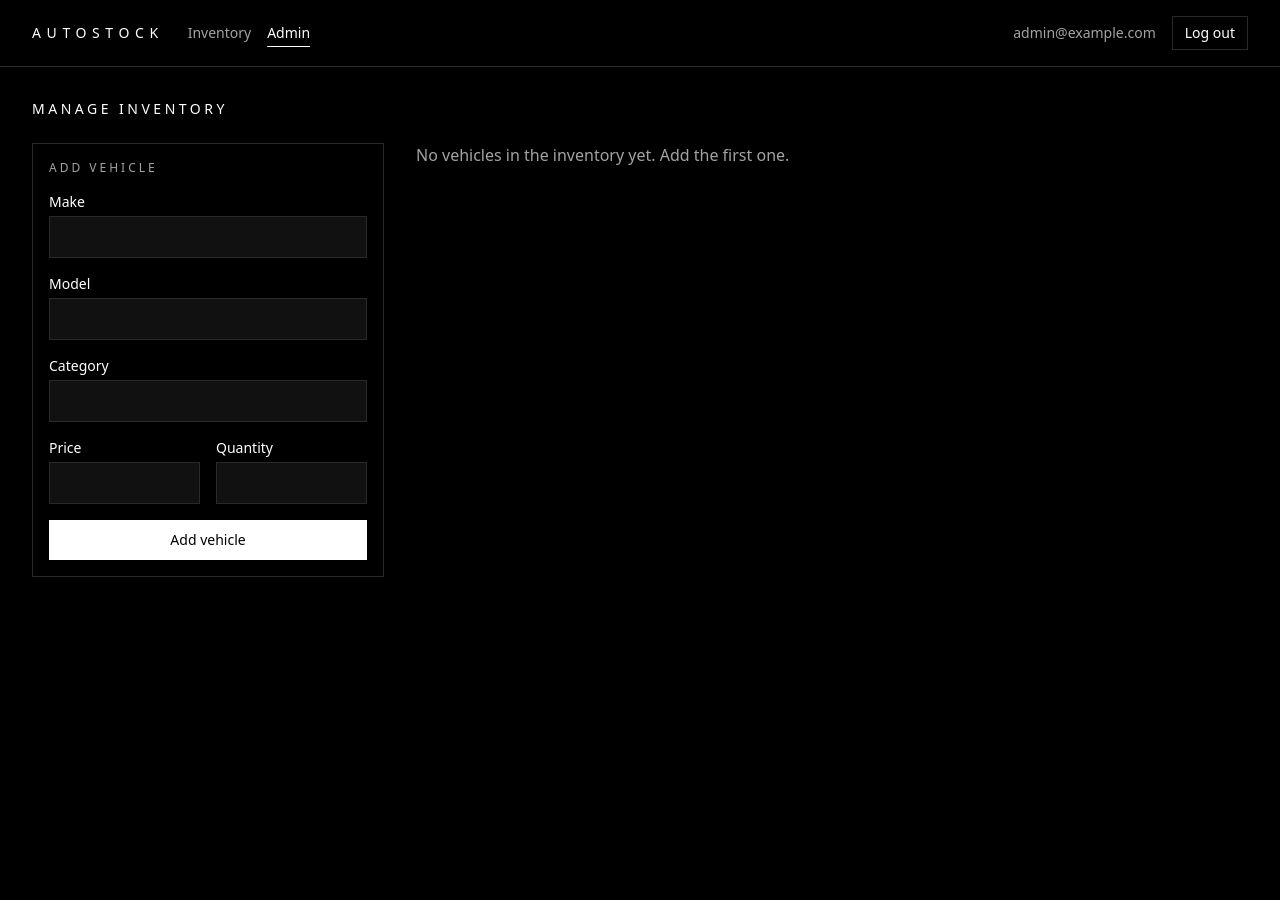
Test: Admin panel › the add form shows validation errors for a negative price
Expected: the text "No vehicles in the inventory yet. Add the first one." is shown, left=416, top=144, right=789, bottom=166
Type "Honda" into the field labelled "Make" at point(208, 237), box left=49, top=216, right=367, bottom=258
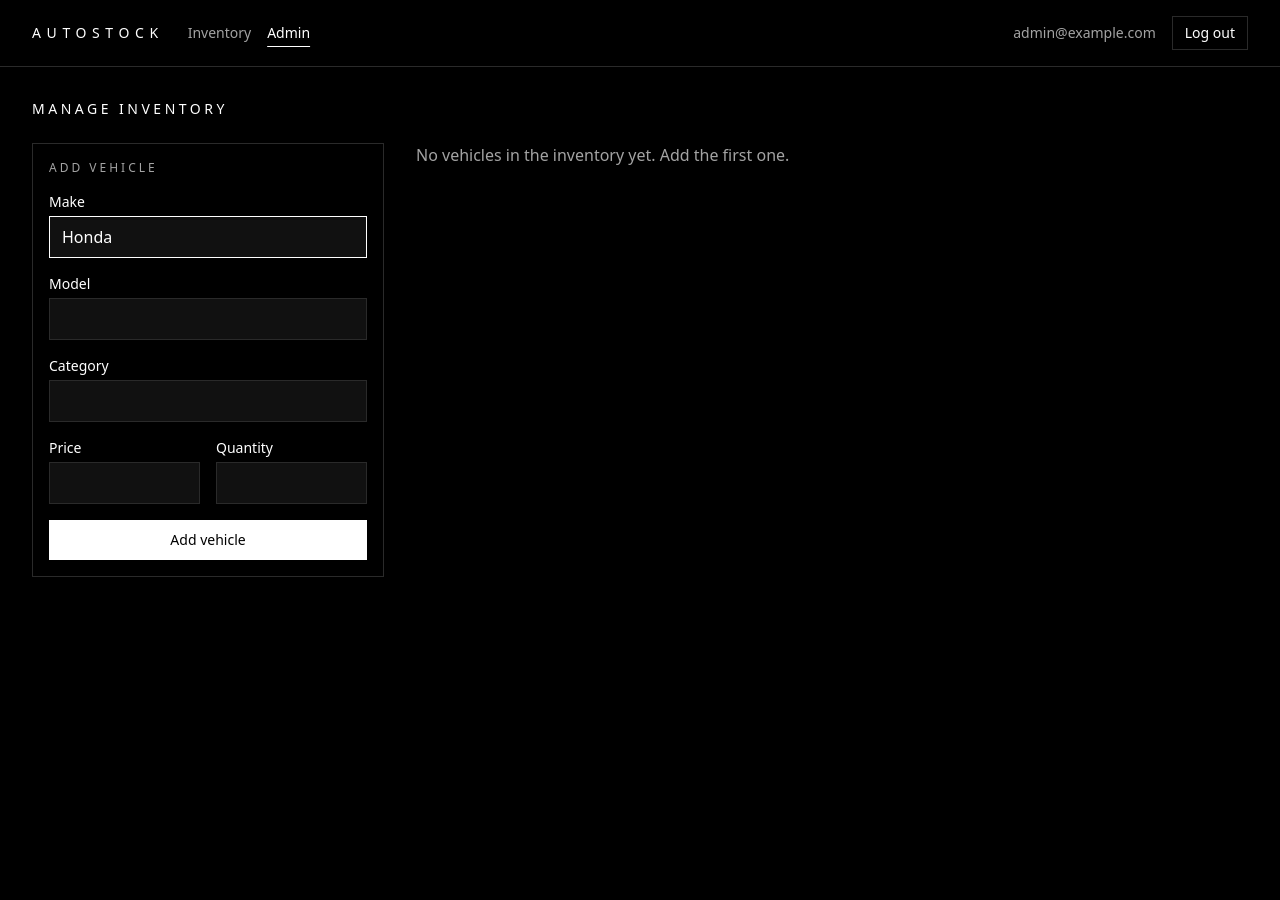
Type "Civic" into the field labelled "Model" at point(208, 319), box left=49, top=298, right=367, bottom=340
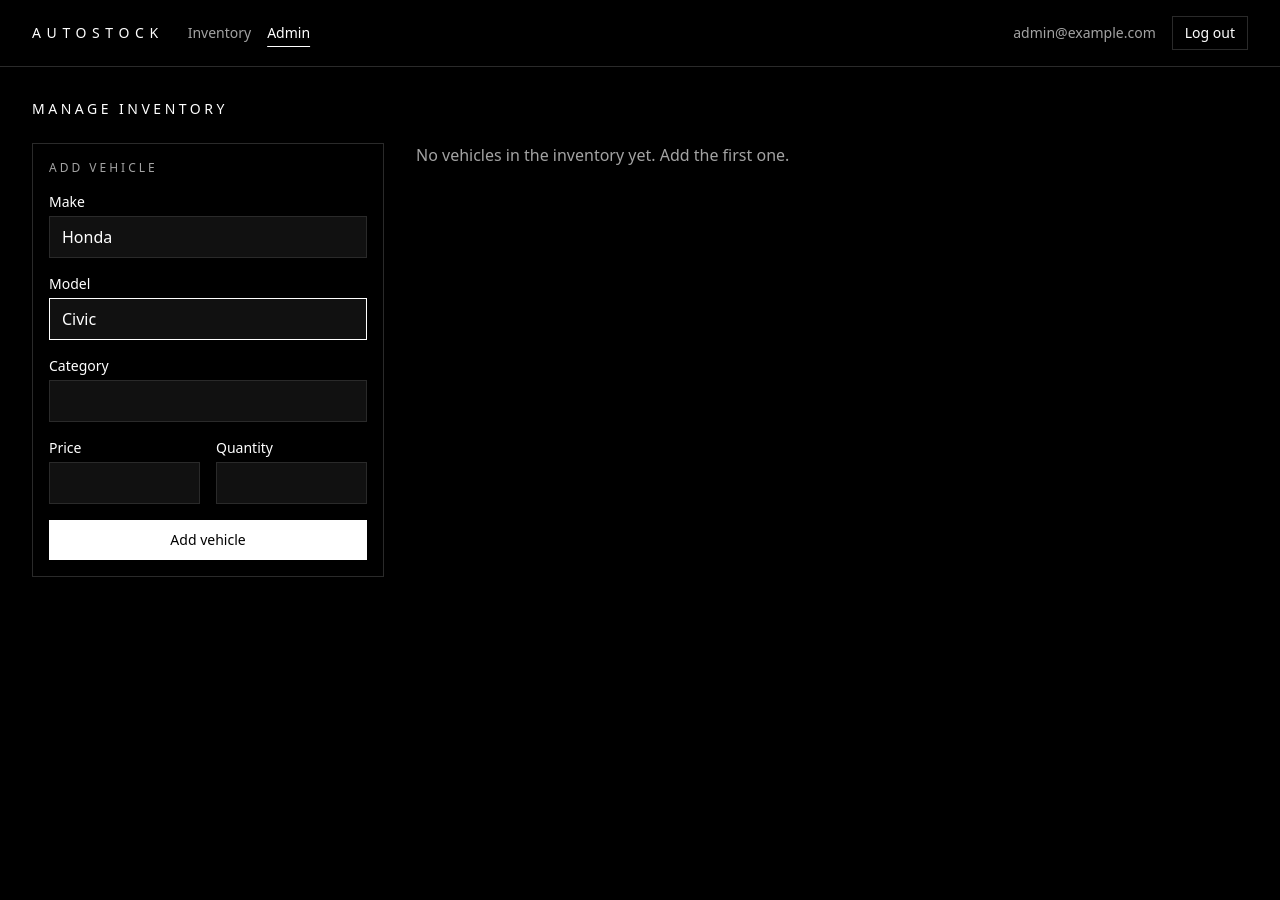
Type "Sedan" into the field labelled "Category" at point(208, 401), box left=49, top=380, right=367, bottom=422
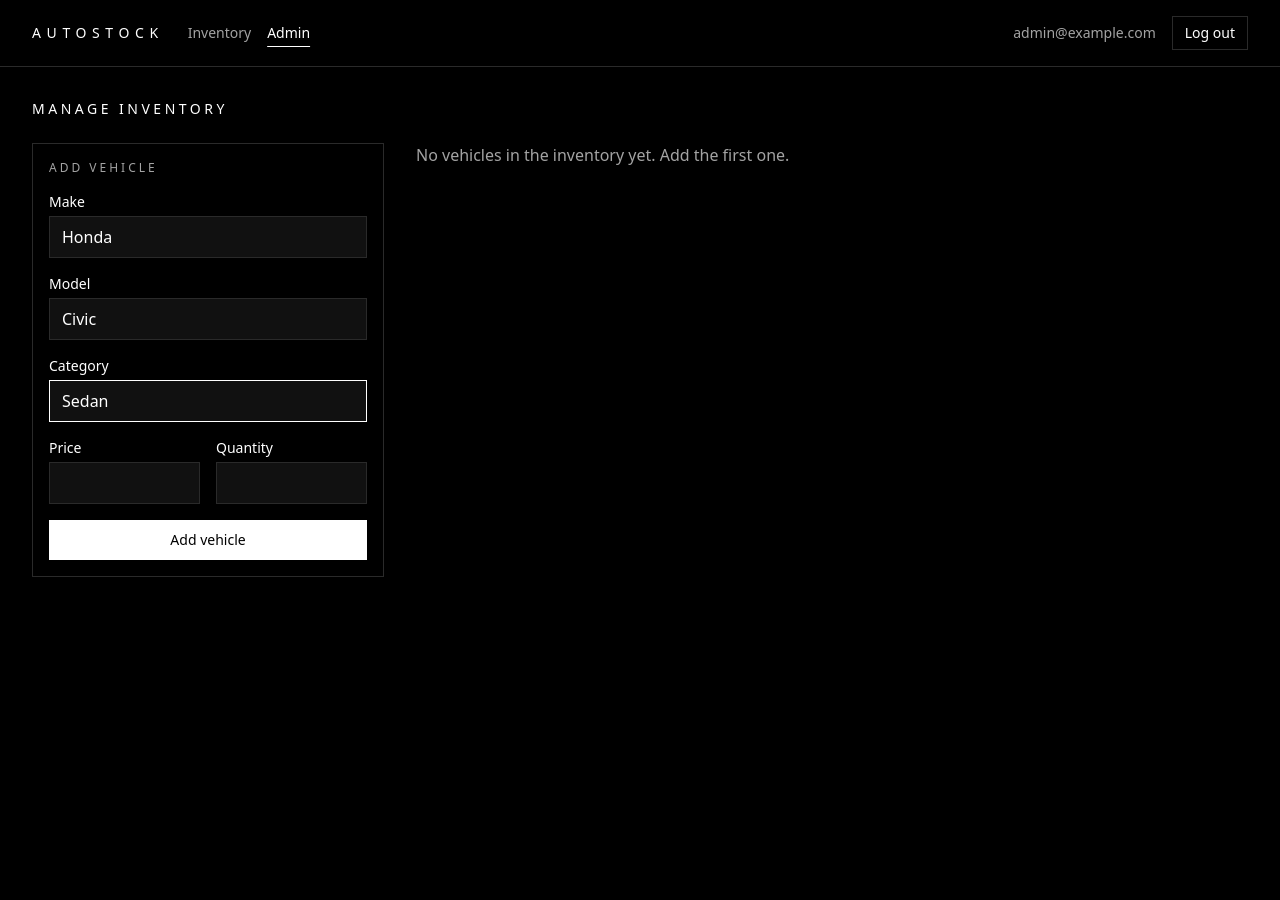
Type "-1" into the field labelled "Price" at point(124, 483), box left=49, top=462, right=200, bottom=504
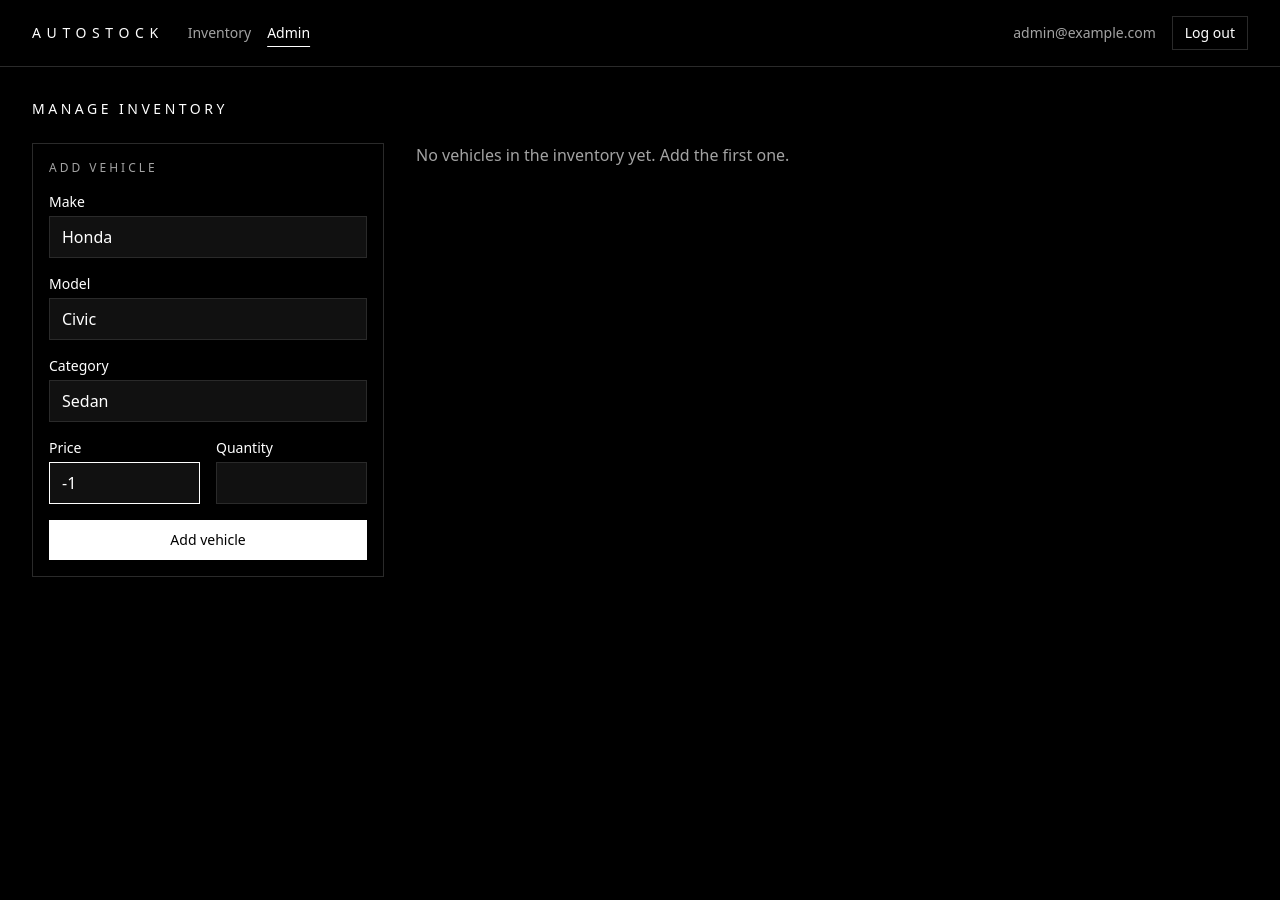
Type "1" into the field labelled "Quantity" at point(292, 483), box left=216, top=462, right=367, bottom=504
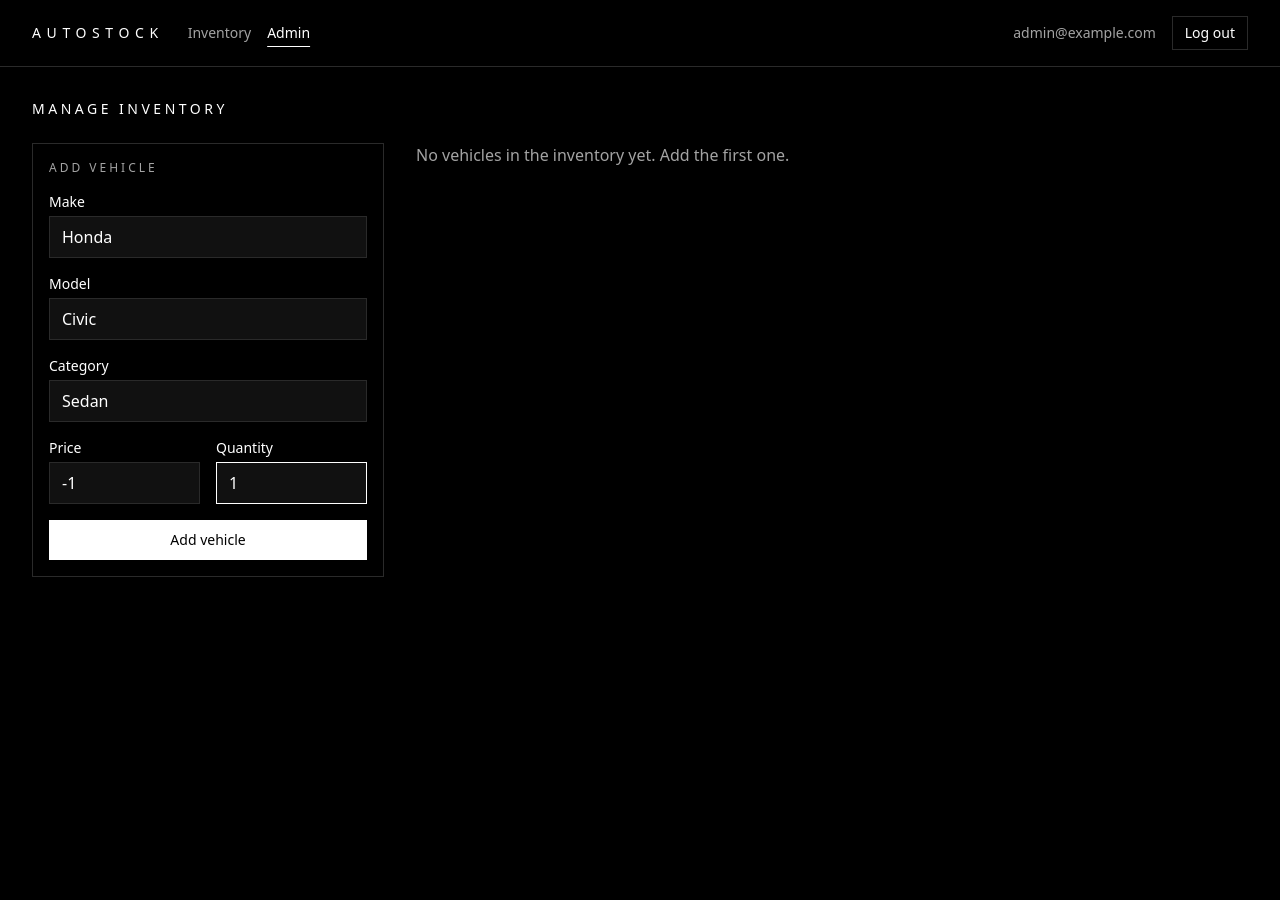
Click the button "Add vehicle" at point(208, 540), box left=49, top=520, right=367, bottom=560
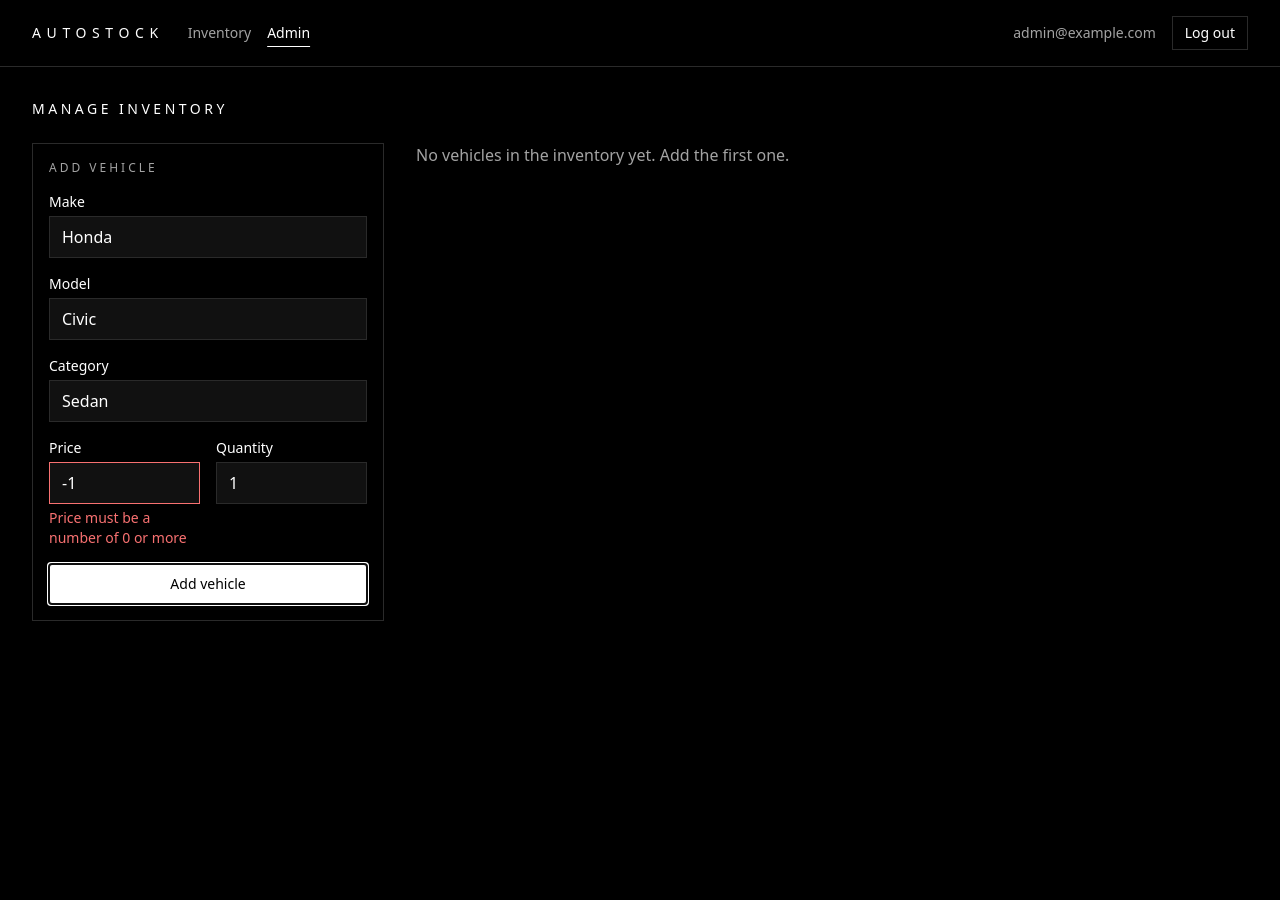
Expected: the text "Price must be a number of 0 or more" is shown, left=49, top=508, right=200, bottom=548
